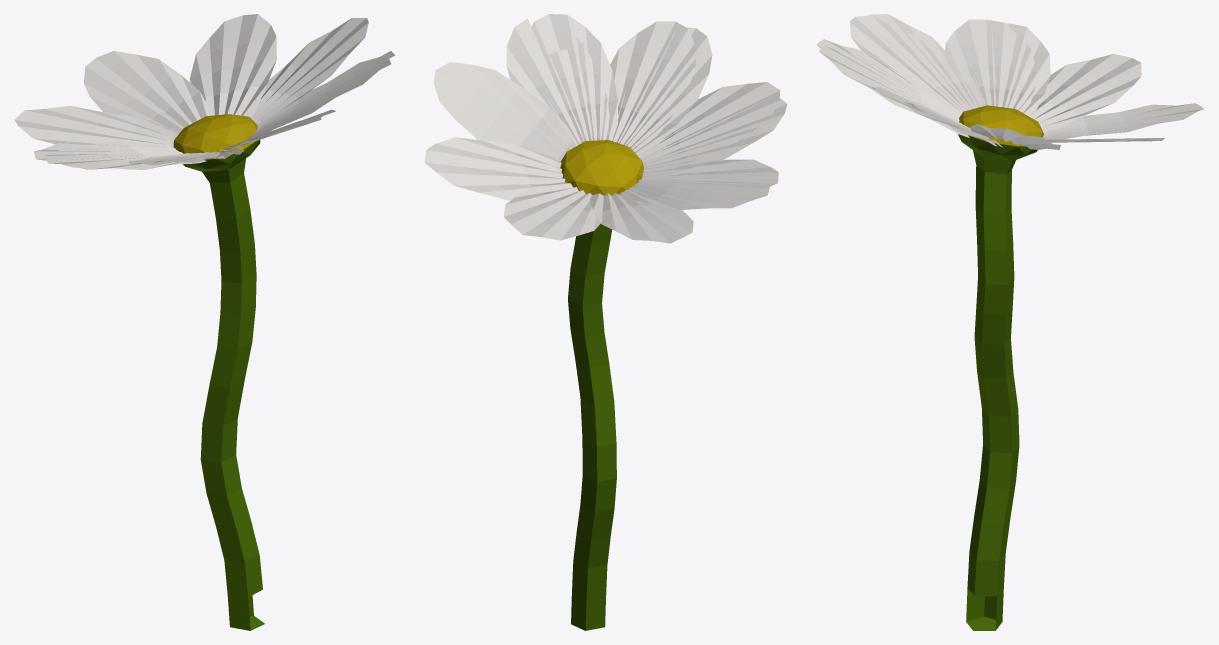
Rendered from flower_white.fbx.
3 views of the same model, side by side, from view 1: azimuth 30°, elevation 25°; view 2: azimuth 150°, elevation 25°; view 3: azimuth 270°, elevation 25° (orthographic). The views are drawn at different scales.
Visible parts, largest first — view 1: Flower_white; view 2: Flower_white; view 3: Flower_white.
Boxes of the visible parts, left/top/right/bottom form: Flower_white: left=14, top=14, right=395, bottom=630; Flower_white: left=424, top=14, right=787, bottom=630; Flower_white: left=816, top=14, right=1204, bottom=630.
Size of the model in its own units: 35.65 by 57.83 by 35.35.
